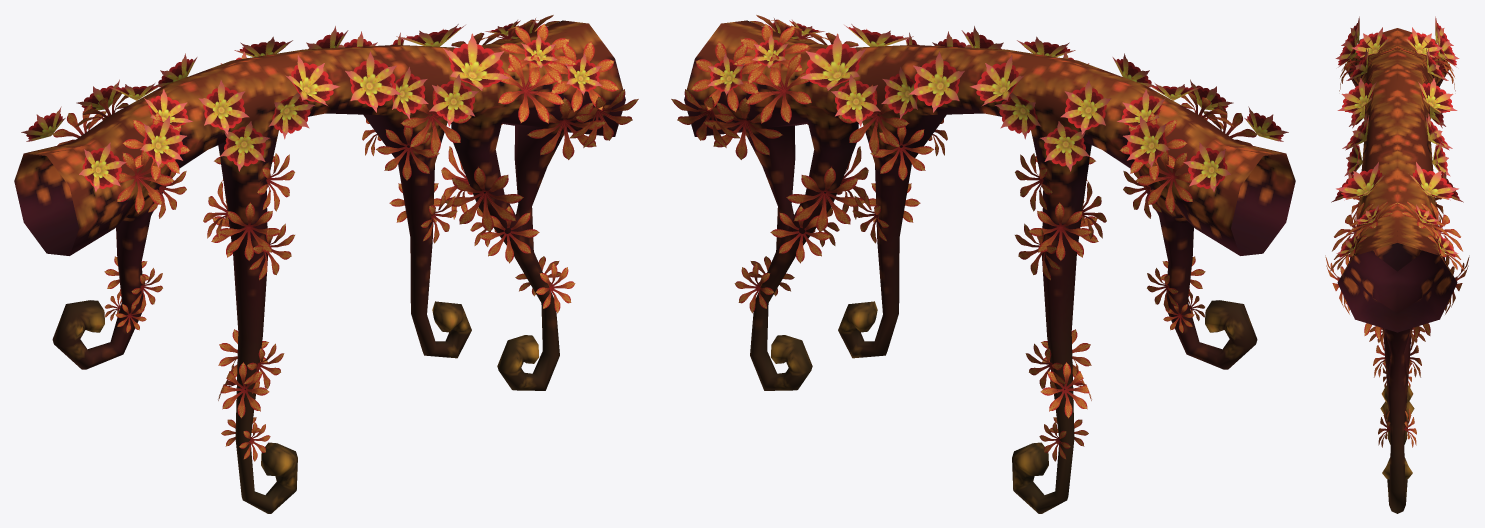
The model's file is Red_Tree_Bridge.FBX.
3 renders of one model, left to right at view 1: azimuth 30°, elevation 25°; view 2: azimuth 150°, elevation 25°; view 3: azimuth 270°, elevation 25°, orthographic. The views are drawn at different scales.
Parts seen in each view (by area): view 1: Red_Tree_Bridge; view 2: Red_Tree_Bridge; view 3: Red_Tree_Bridge.
Boxes of the visible parts, x1,y1,x2,y2 form: Red_Tree_Bridge: (14,15,638,513); Red_Tree_Bridge: (671,15,1295,513); Red_Tree_Bridge: (1325,16,1469,513).
Size of the model in its own units: 414 by 332 by 116.
